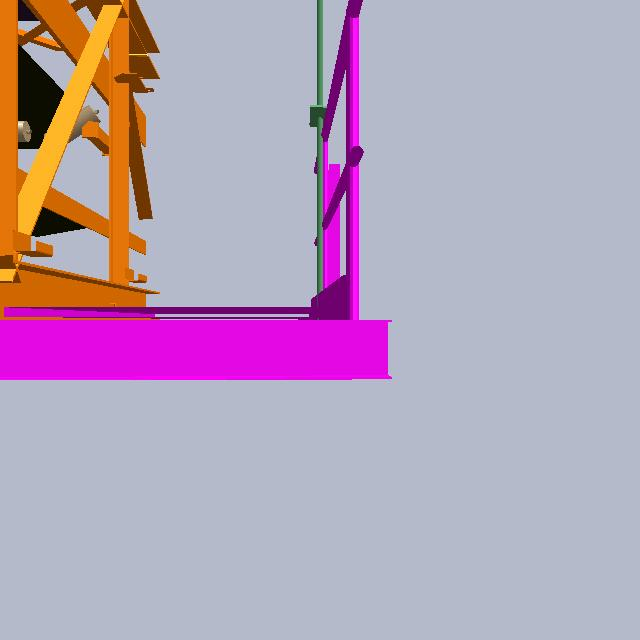Poste: (309, 159, 363, 335), (305, 3, 332, 335)
